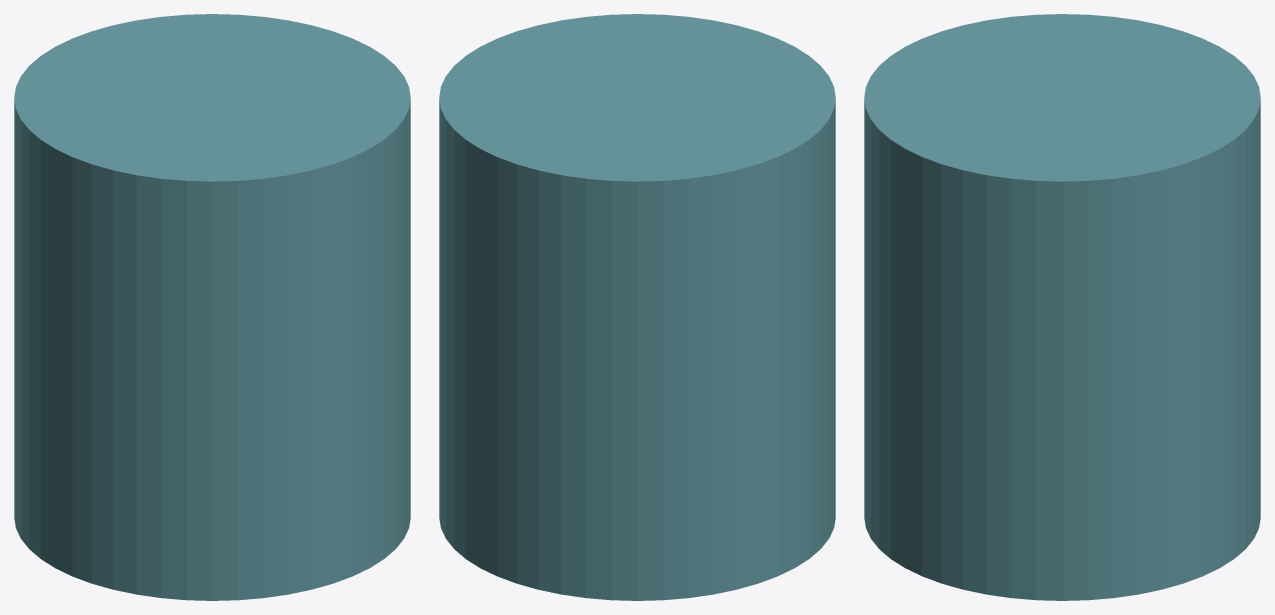
Rendered from Pin-R-1.glb.
The picture shows the model from 3 angles, left to right: view 1: azimuth 30°, elevation 25°; view 2: azimuth 150°, elevation 25°; view 3: azimuth 270°, elevation 25°; orthographic projection.
Visible parts, largest first — view 1: Pin-R-1; view 2: Pin-R-1; view 3: Pin-R-1.
Boxes of the visible parts, x1,y1,x2,y2 form: Pin-R-1: [14, 14, 410, 600]; Pin-R-1: [439, 14, 835, 600]; Pin-R-1: [864, 14, 1260, 600].
Bounding box in the file's own units: 0.006 × 0.007 × 0.006.
